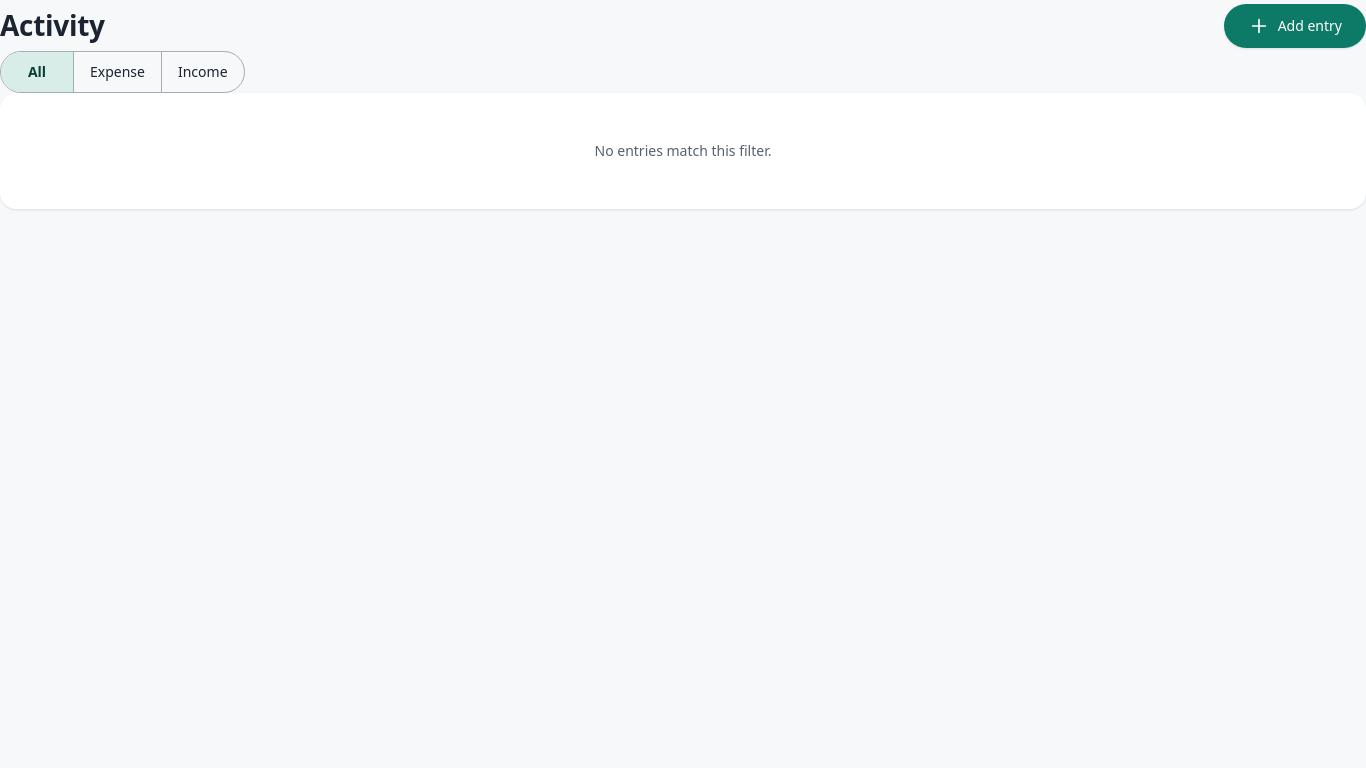
TransactionsPage › adds an entry through the dialog form
Expected: the text "No entries match this filter." is shown, top-left (594, 141), bottom-right (772, 160)
Click the button "Add entry" at (1295, 26), box top-left (1224, 4), bottom-right (1365, 48)
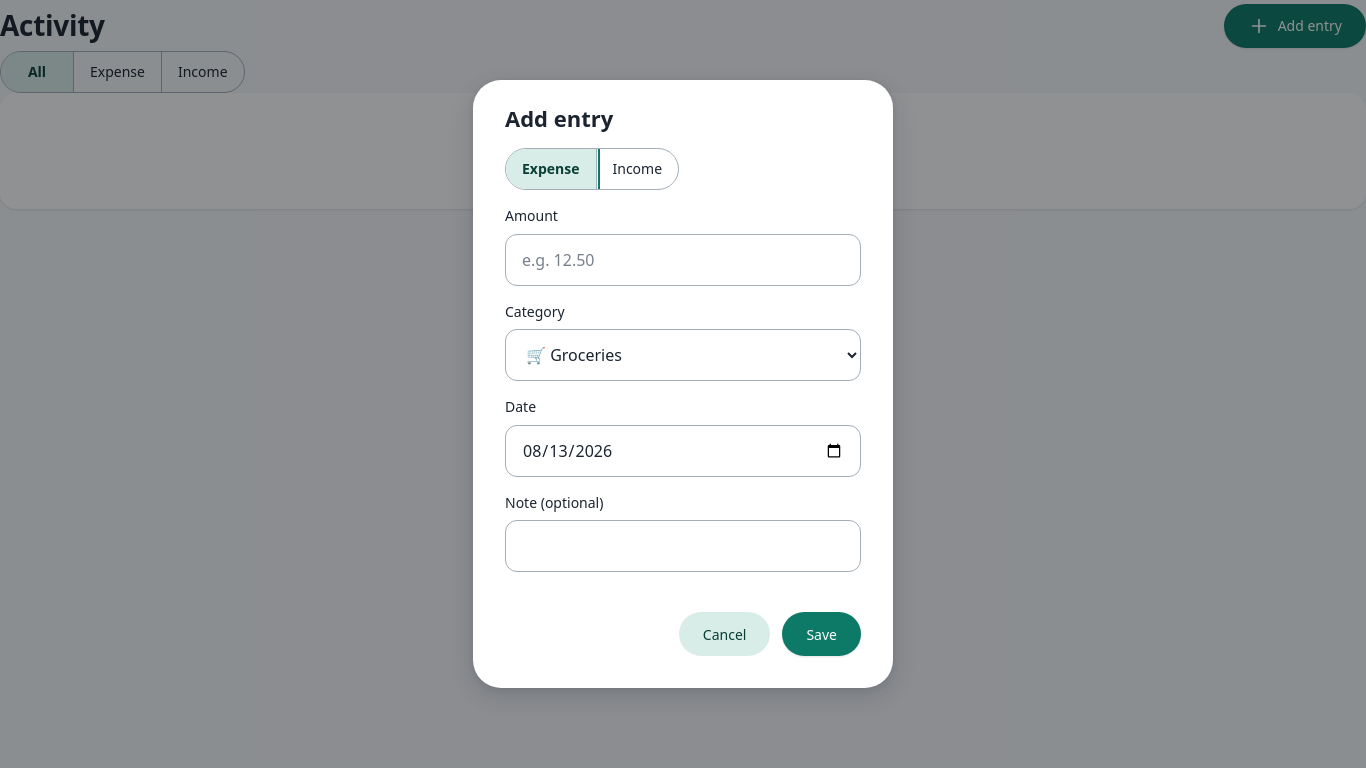
Result: the dialog "Add entry" is shown at top-left (473, 80), bottom-right (893, 688)
Type "12.50" into the field labelled "Amount" at (683, 260), box top-left (505, 234), bottom-right (861, 286)
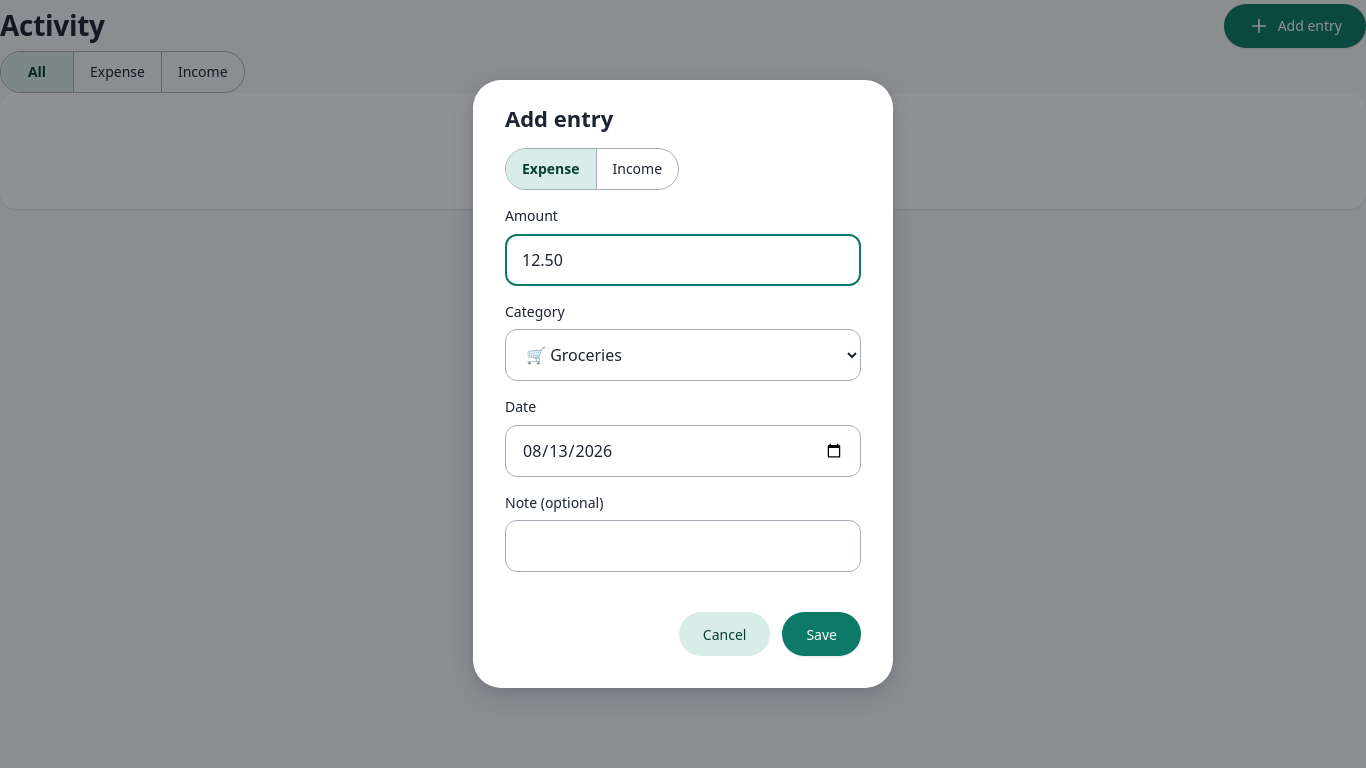
Select "🛒 Groceries" in the dropdown labelled "Category" at (683, 355), box top-left (505, 329), bottom-right (861, 381)
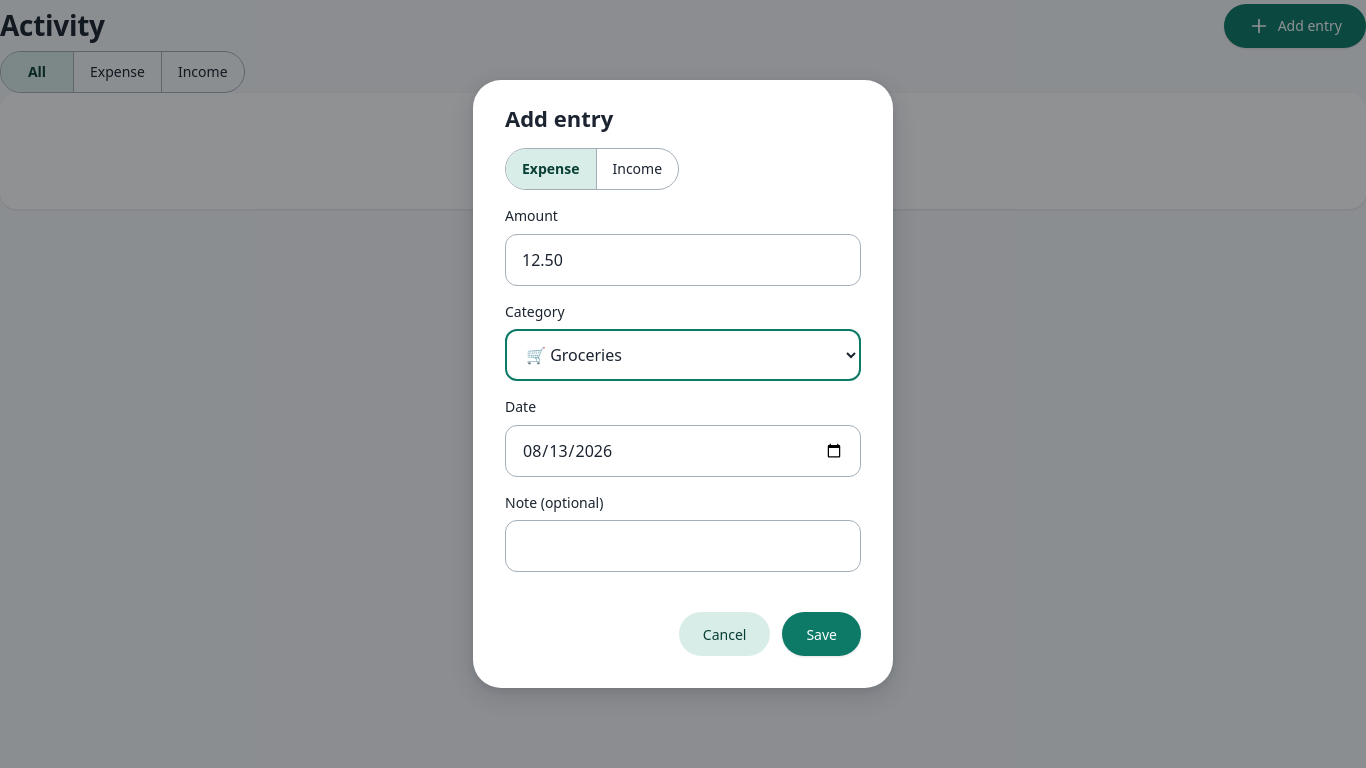
Type "weekly shop" into the field labelled "Note (optional)" at (683, 546), box top-left (505, 520), bottom-right (861, 572)
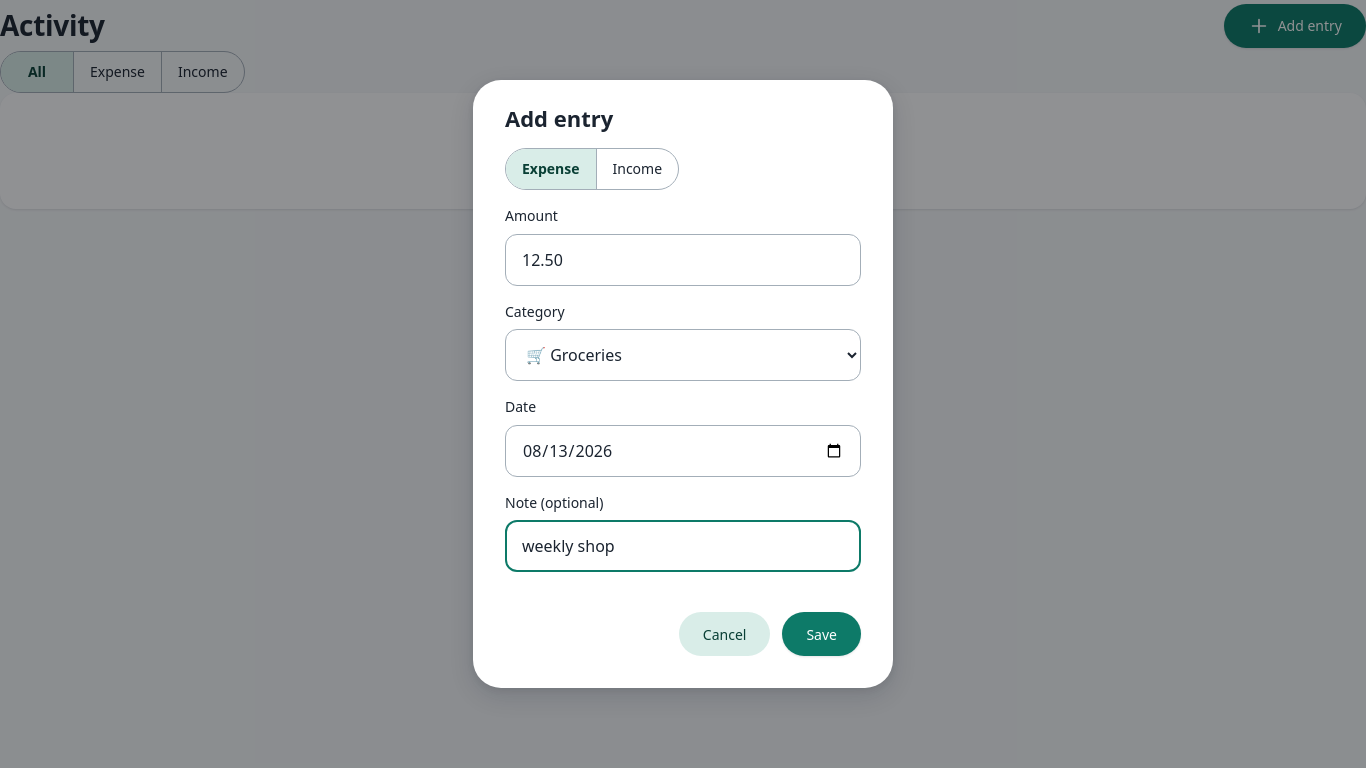
Click the button "Save" at (822, 634), box top-left (782, 612), bottom-right (861, 656)
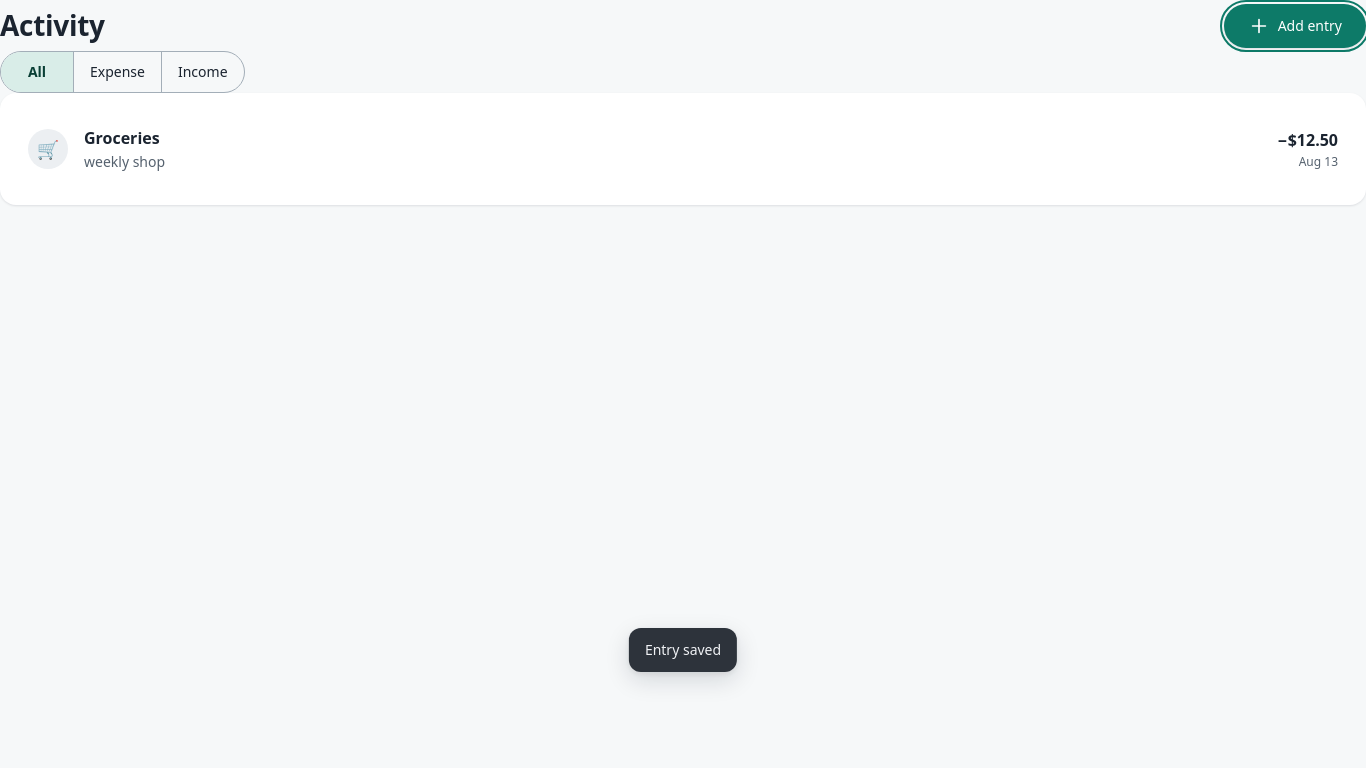
Result: the dialog is gone
Result: the text "Groceries" is shown at top-left (84, 127), bottom-right (160, 149)
Result: the text "weekly shop" is shown at top-left (84, 152), bottom-right (165, 171)
